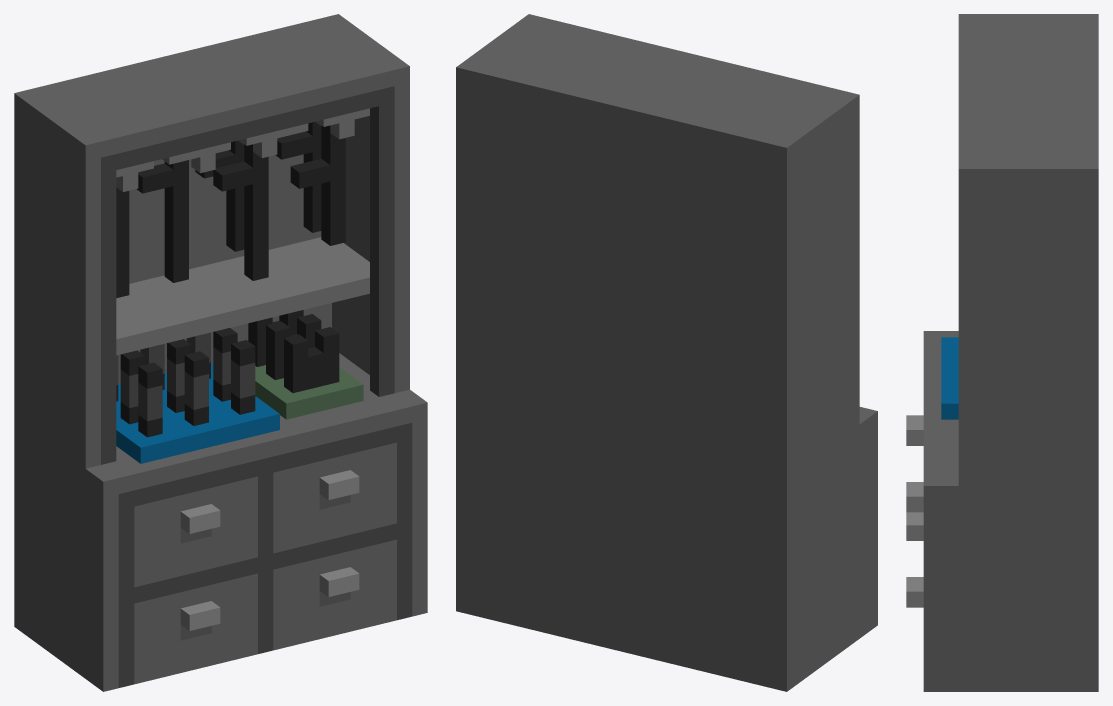
The model's file is Security Riot Gear Locker 2.obj.
3 views of the same model, side by side, from view 1: azimuth 30°, elevation 25°; view 2: azimuth 150°, elevation 25°; view 3: azimuth 270°, elevation 25° (orthographic). The views are drawn at different scales.
Bounding box in the file's own units: 21 × 33 × 11.
1 material, 1 textured.
